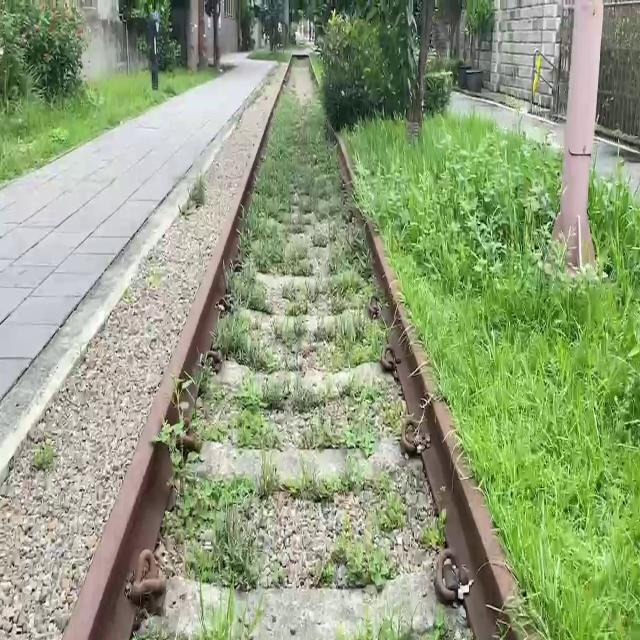rail-track: (132, 59, 469, 640)
